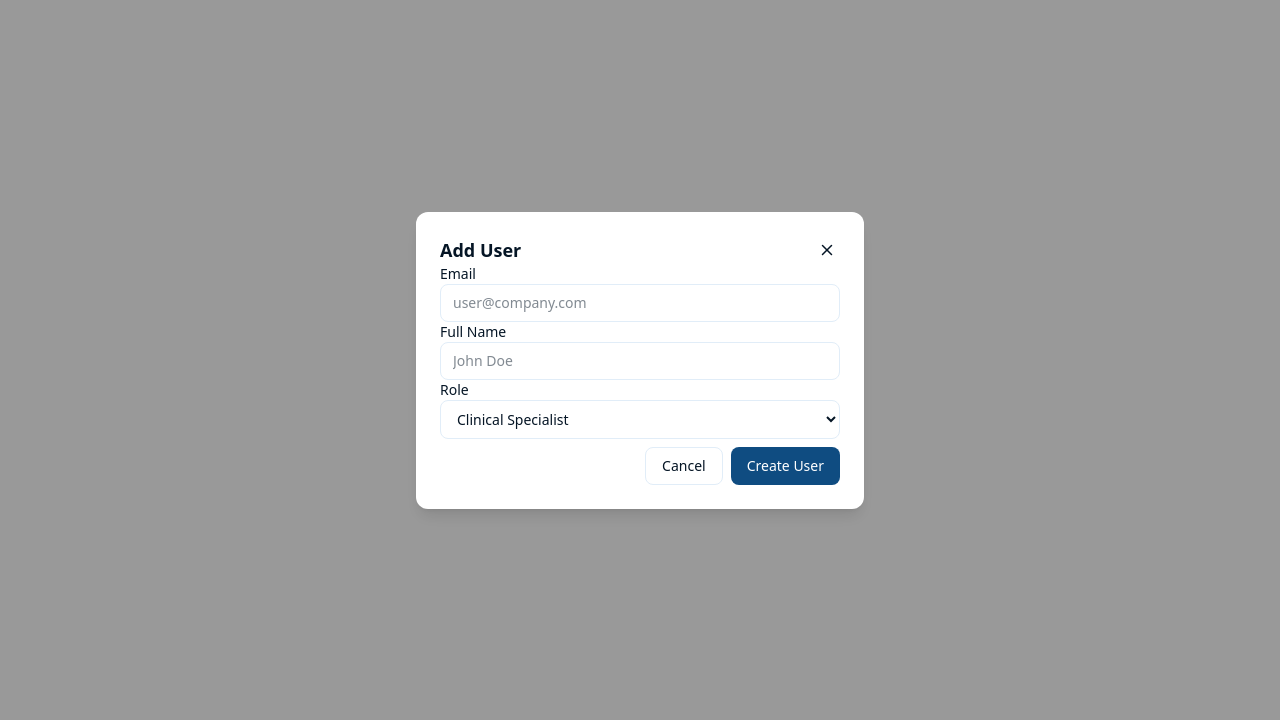
UserCreateDialog › validates required fields
Click the button "Create User": (785, 466) [731, 446, 840, 484]
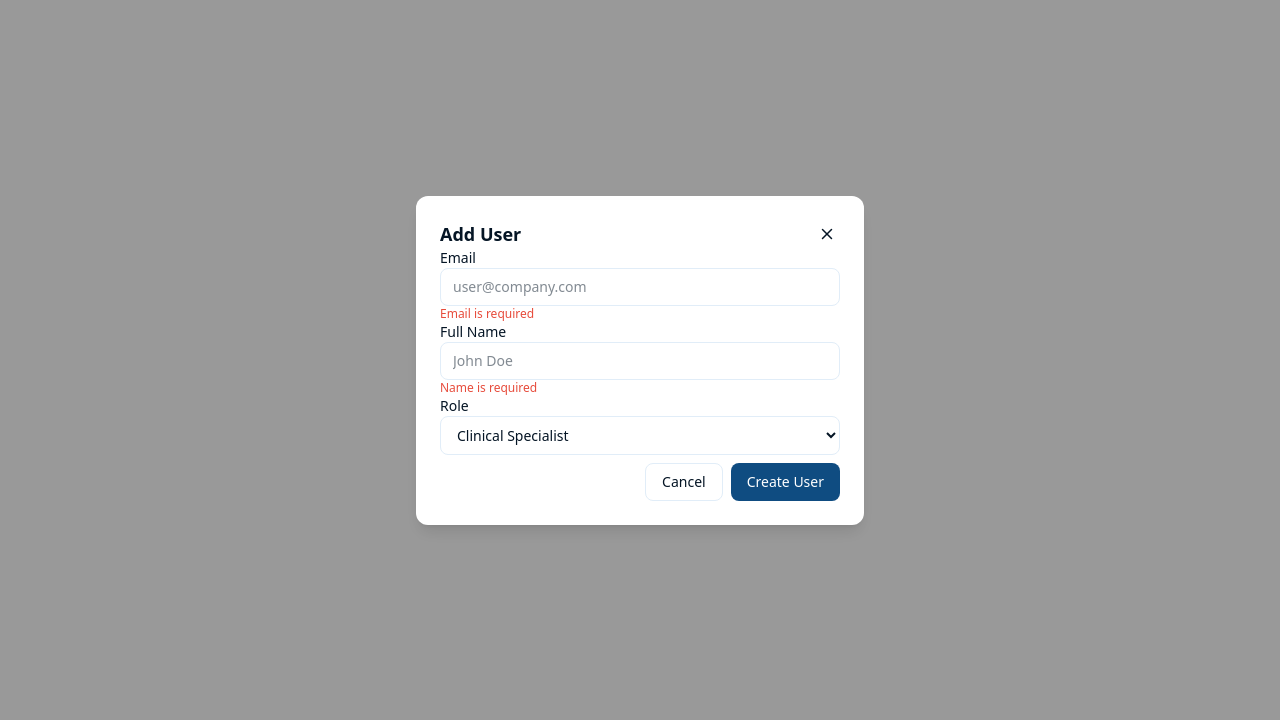
Expected: the text "Email is required" is shown, [440, 304, 534, 322]
Expected: the text "Name is required" is shown, [440, 378, 537, 396]
